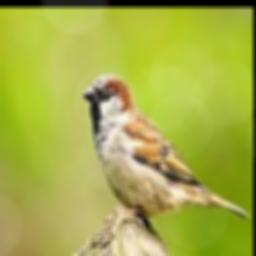Sparrow: (81, 73, 250, 232)
